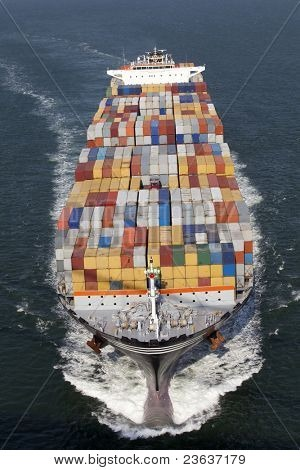Cargoship: (56, 43, 262, 398)
